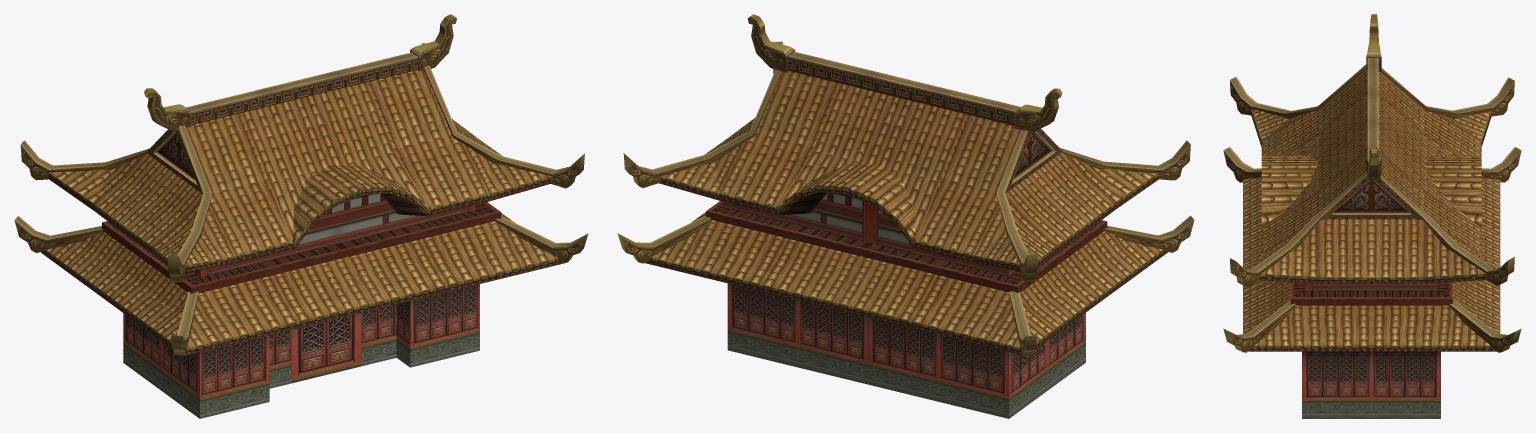
Rendered from Yland1_fz_01 Yland1.FBX.
3 renders of one model, left to right at view 1: azimuth 30°, elevation 25°; view 2: azimuth 150°, elevation 25°; view 3: azimuth 270°, elevation 25°, orthographic. The views are drawn at different scales.
Parts seen in each view (by area): view 1: Yland1_fz_01 Yland1; view 2: Yland1_fz_01 Yland1; view 3: Yland1_fz_01 Yland1.
Part boxes in pixels (x1=…): Yland1_fz_01 Yland1: x1=14, y1=14, x2=588, y2=418; Yland1_fz_01 Yland1: x1=617, y1=14, x2=1194, y2=418; Yland1_fz_01 Yland1: x1=1223, y1=14, x2=1521, y2=418.
Size of the model in its own units: 19.09 by 13.27 by 13.01.
